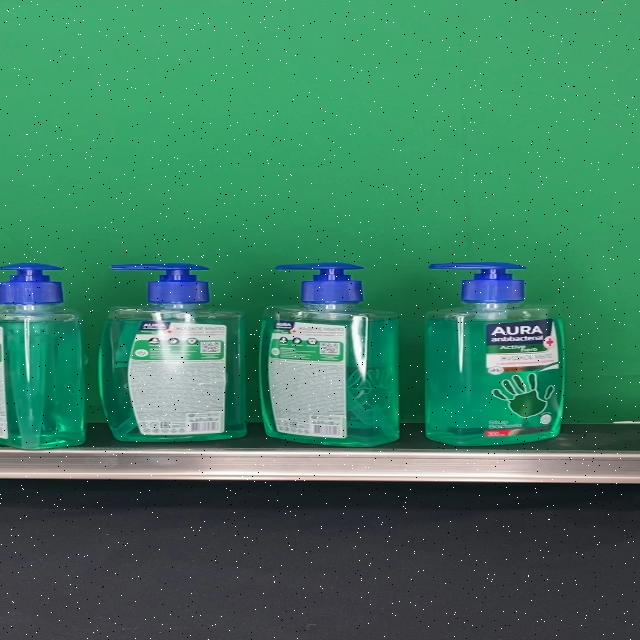Bottle: (99, 264, 247, 442), (424, 261, 566, 446), (259, 263, 400, 447)
Cap: (426, 262, 527, 304), (111, 264, 210, 305), (273, 263, 365, 305)
